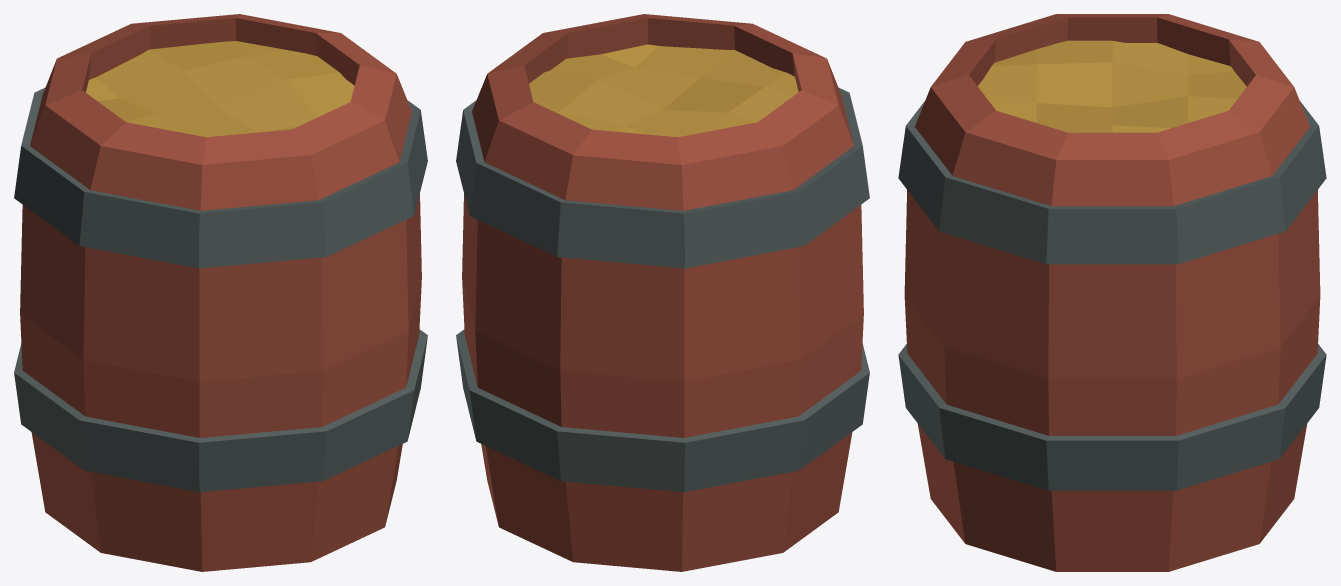
File: Barrel_5_Red.fbx
The picture shows the model from 3 angles, left to right: view 1: azimuth 30°, elevation 25°; view 2: azimuth 150°, elevation 25°; view 3: azimuth 270°, elevation 25°; orthographic projection.
Parts seen in each view (by area): view 1: Barrel_5_Red_Part_1, Barrel_5_Red_Part_2, Barrel_5_Red_Part_3; view 2: Barrel_5_Red_Part_1, Barrel_5_Red_Part_2, Barrel_5_Red_Part_3; view 3: Barrel_5_Red_Part_1, Barrel_5_Red_Part_2, Barrel_5_Red_Part_3.
Part boxes in pixels (x1,y1,x2,y2): Barrel_5_Red_Part_1: (20, 14, 421, 571); Barrel_5_Red_Part_2: (14, 87, 427, 492); Barrel_5_Red_Part_3: (86, 41, 354, 137); Barrel_5_Red_Part_1: (462, 14, 863, 571); Barrel_5_Red_Part_2: (456, 87, 869, 492); Barrel_5_Red_Part_3: (529, 44, 798, 137); Barrel_5_Red_Part_1: (904, 14, 1320, 571); Barrel_5_Red_Part_2: (898, 101, 1326, 490); Barrel_5_Red_Part_3: (977, 40, 1246, 132).
Size of the model in its own units: 134 by 154 by 141.
